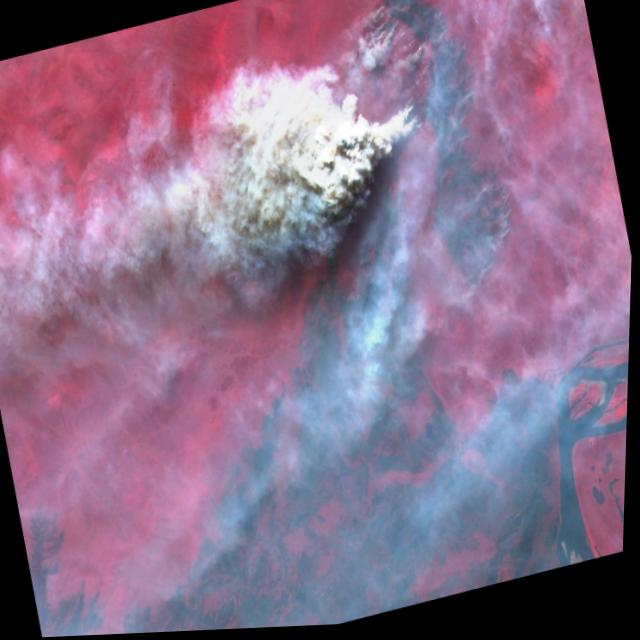fire: (329, 0, 547, 344)
